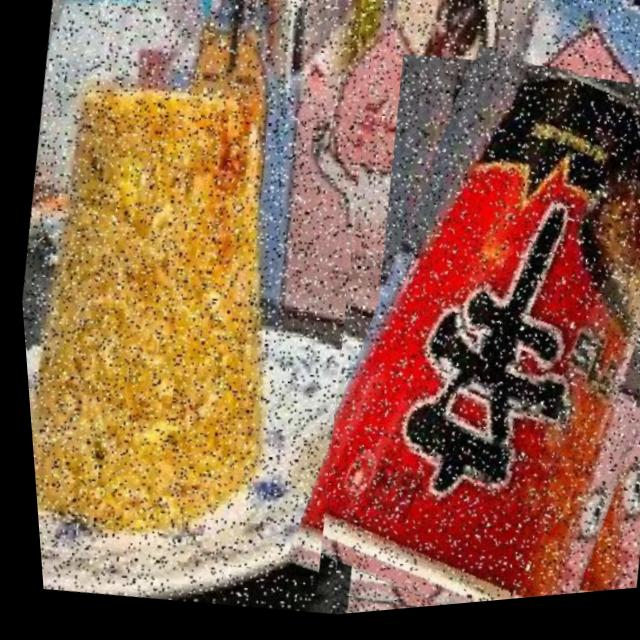Miscellaneous: (271, 38, 640, 622)
